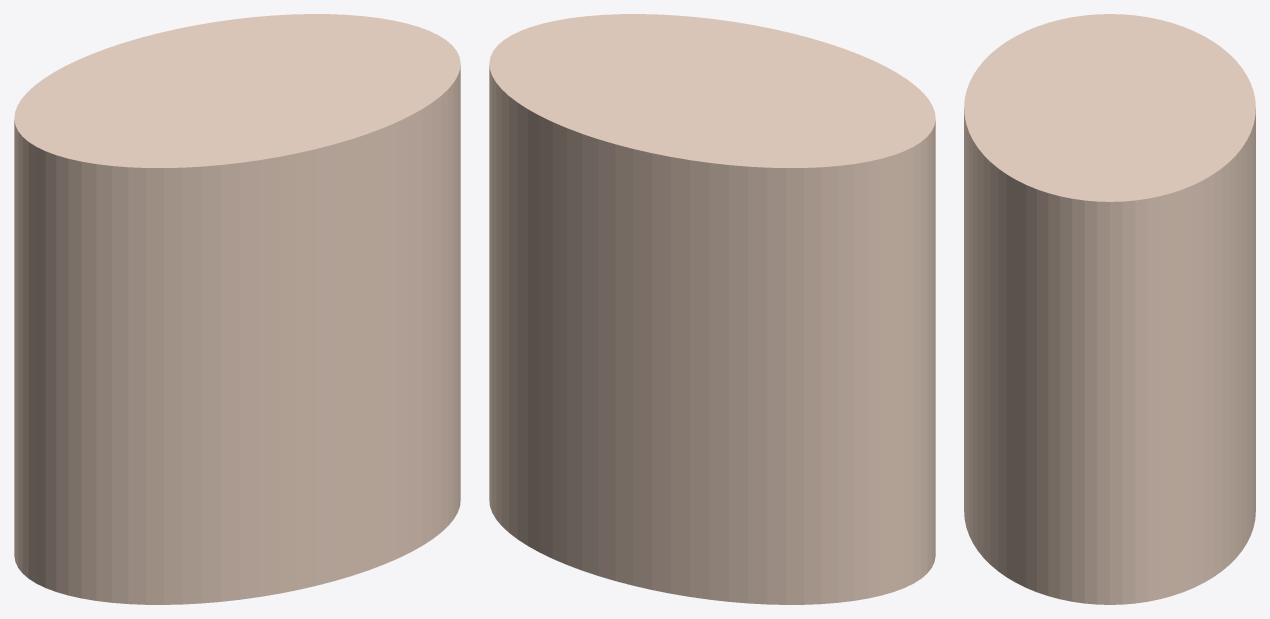
Rendered from lower-back-lipomas-3d.glb.
3 renders of one model, left to right at view 1: azimuth 30°, elevation 25°; view 2: azimuth 150°, elevation 25°; view 3: azimuth 270°, elevation 25°, orthographic. The views are drawn at different scales.
Parts seen in each view (by area): view 1: skin; view 2: skin; view 3: skin.
Boxes of the visible parts, x1,y1,x2,y2 form: skin: (14, 14, 460, 604); skin: (489, 14, 935, 604); skin: (964, 14, 1255, 604).
Bounding box in the file's own units: 0.32 × 0.32 × 0.21.
